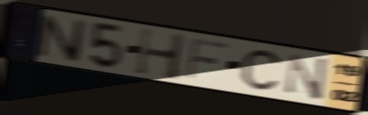5: (86, 20, 125, 71)
C: (240, 48, 283, 92)
F: (183, 36, 232, 82)
H: (133, 25, 189, 83)
N: (35, 12, 88, 65), (285, 51, 331, 103)
